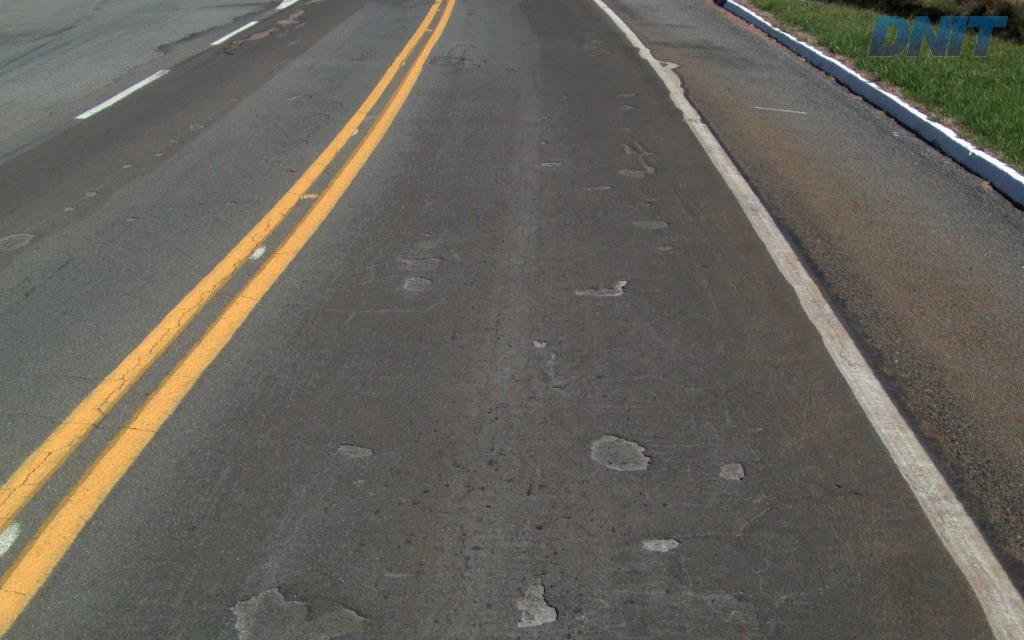pothole: (220, 584, 373, 638), (503, 573, 567, 635), (584, 425, 661, 475), (611, 138, 660, 183), (634, 529, 695, 563), (561, 269, 633, 297), (329, 439, 383, 462), (624, 213, 674, 235), (709, 459, 752, 484), (393, 249, 439, 270), (395, 272, 434, 291), (530, 155, 567, 170), (525, 335, 550, 350), (580, 183, 615, 192), (612, 90, 639, 100), (654, 243, 674, 251), (618, 104, 633, 113)
